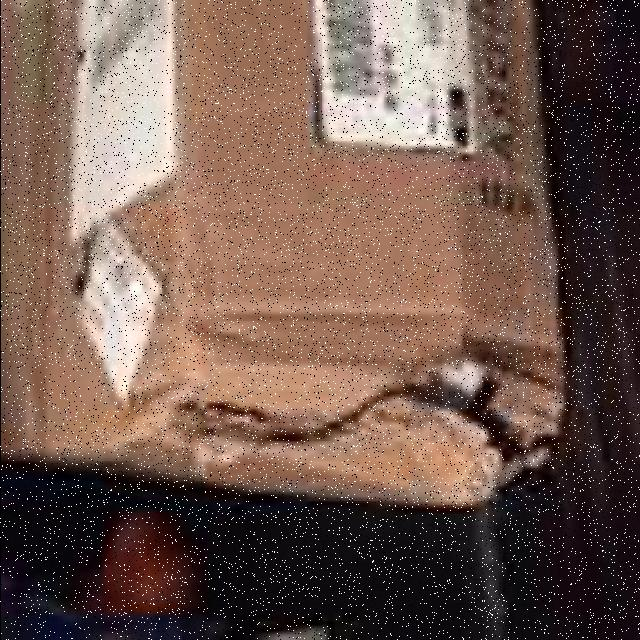defect: (1, 2, 564, 510)
